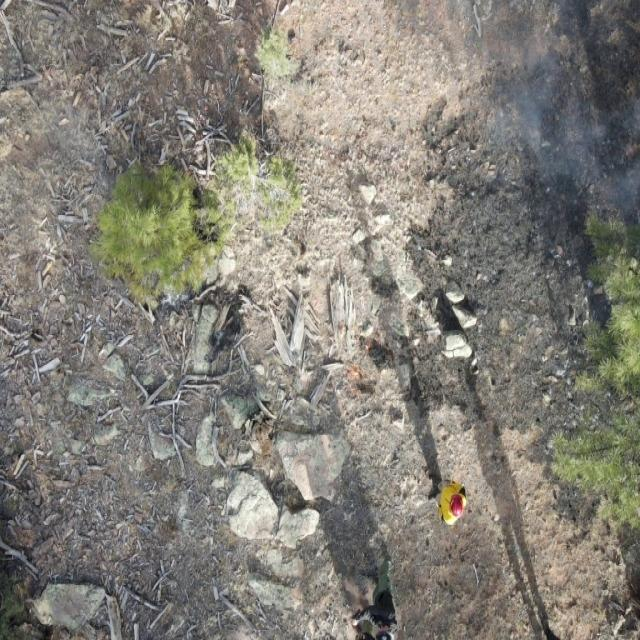fire: (340, 365, 376, 399), (360, 340, 373, 355), (336, 322, 348, 337)
smoke: (474, 0, 640, 216)
